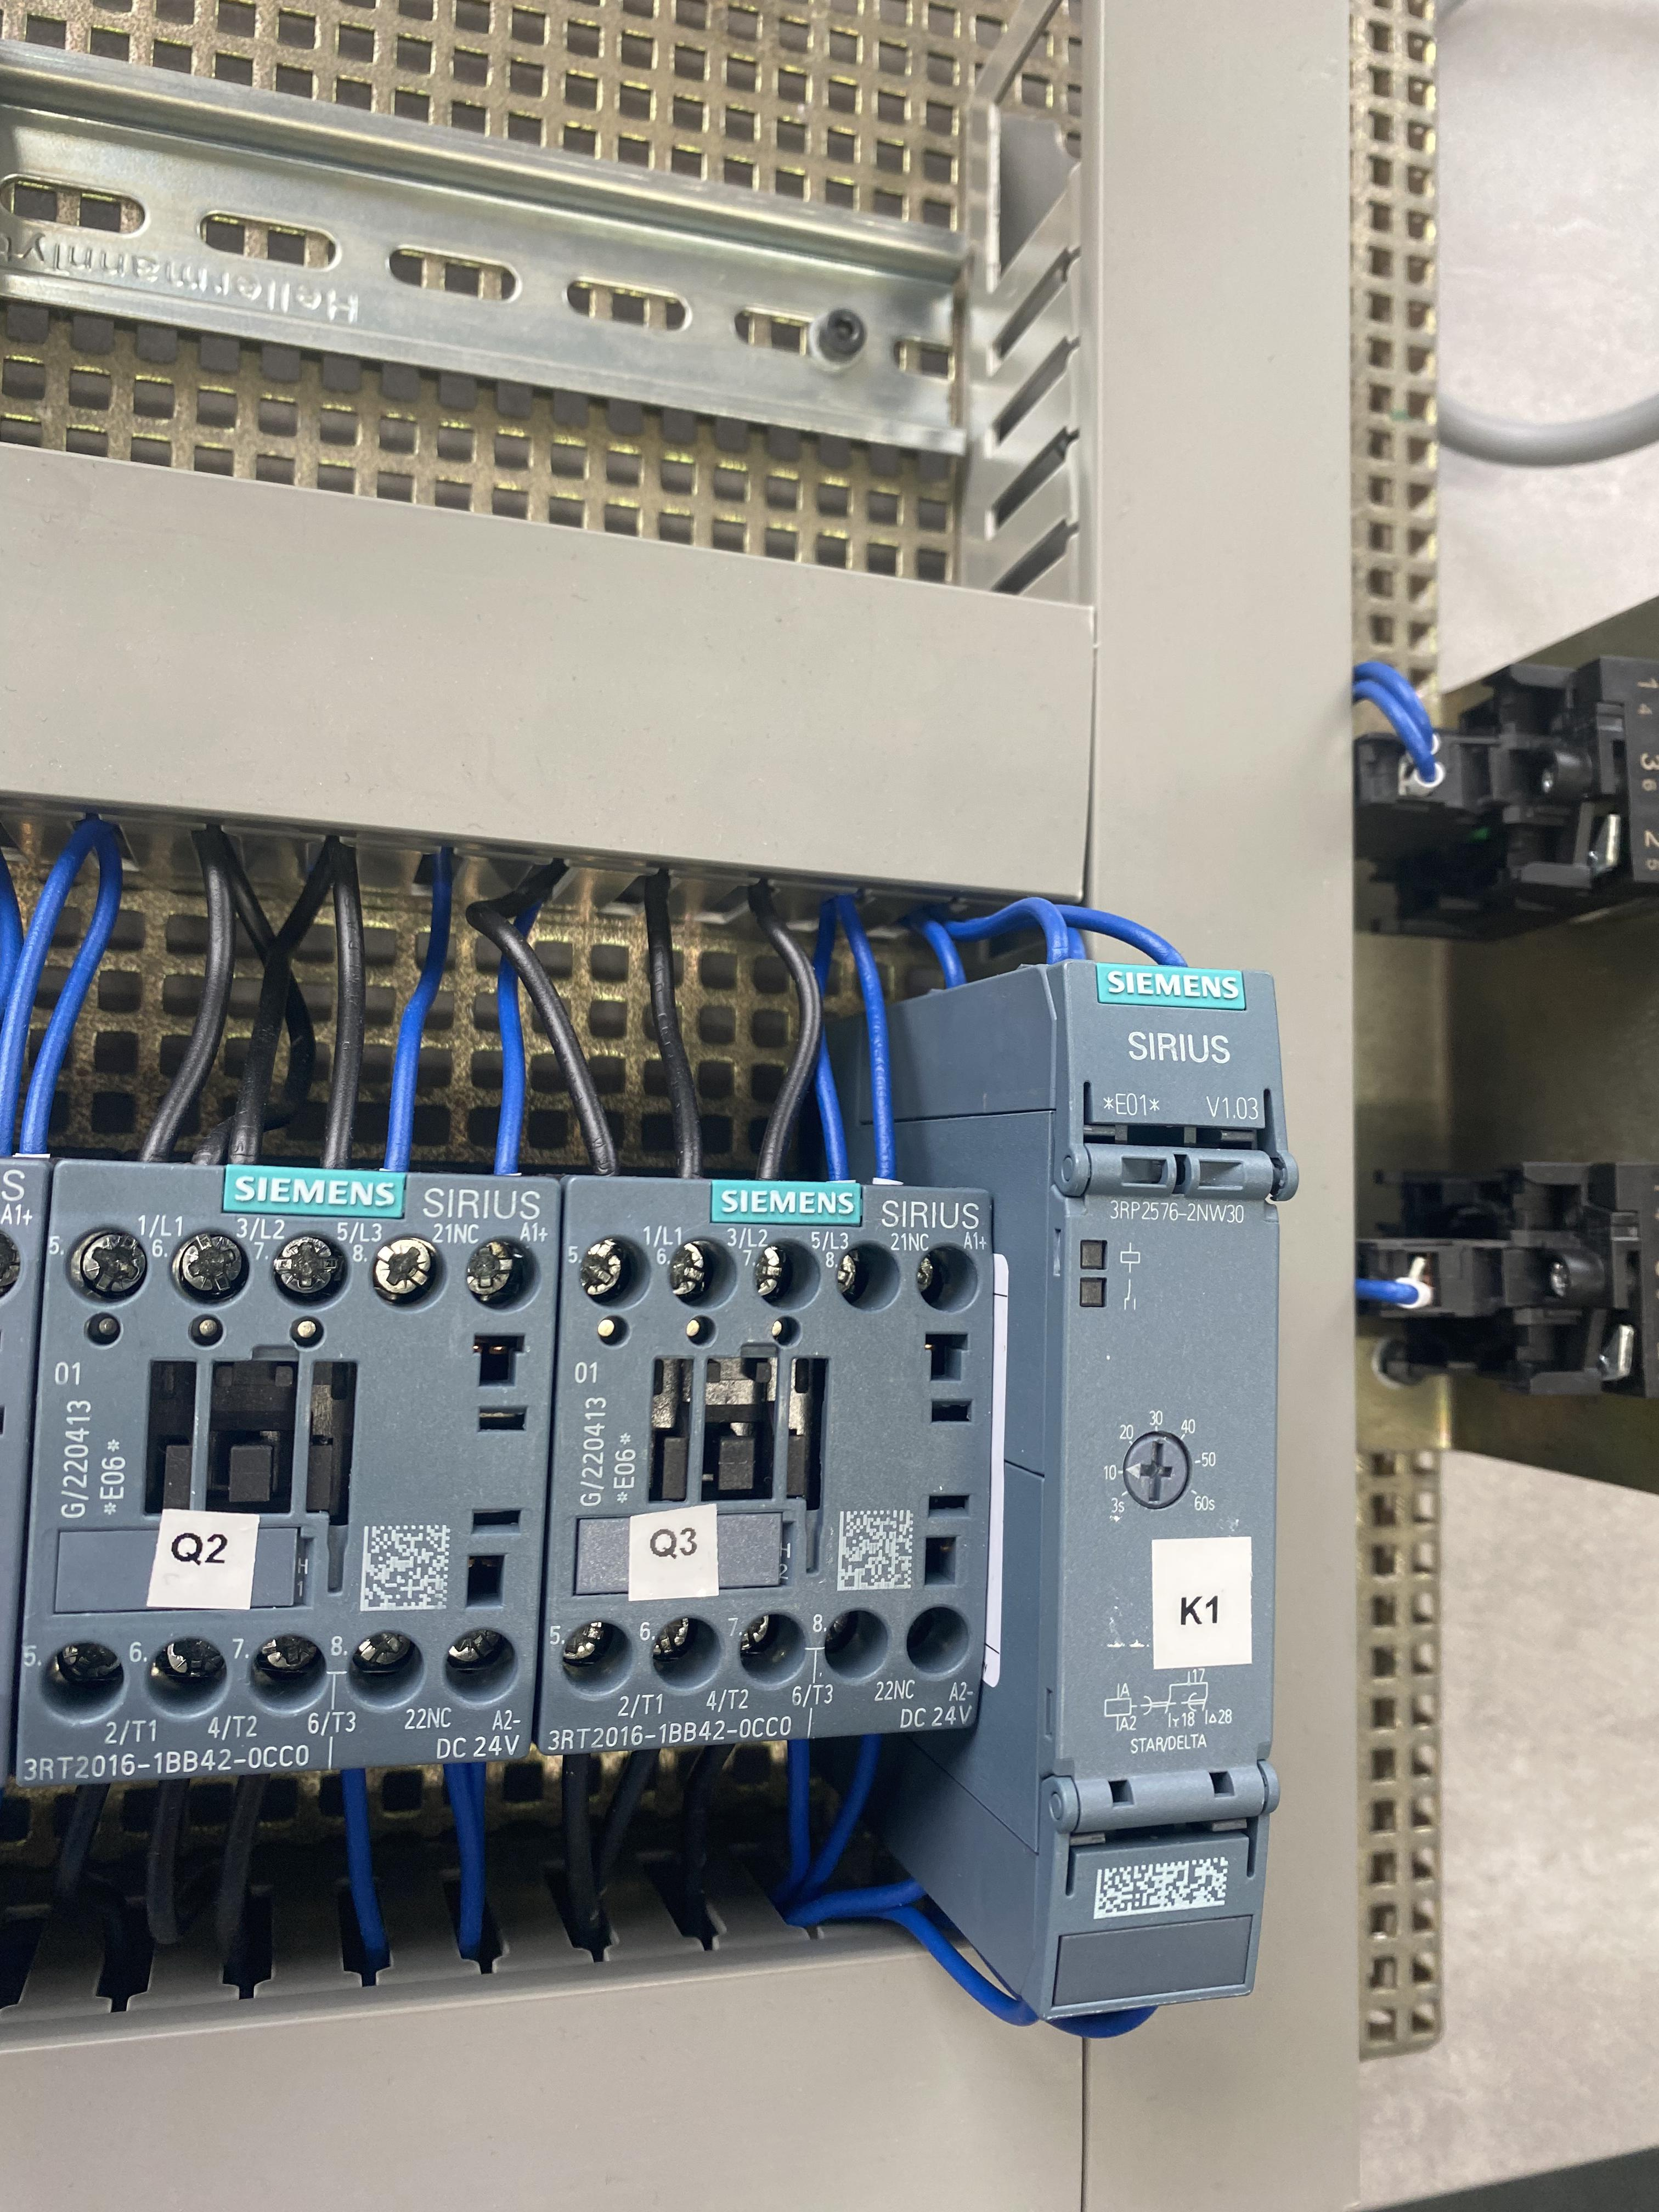K1: (1042, 965, 1298, 2020)
Q2: (10, 1158, 559, 1780)
Q3: (537, 1174, 1000, 1750)
